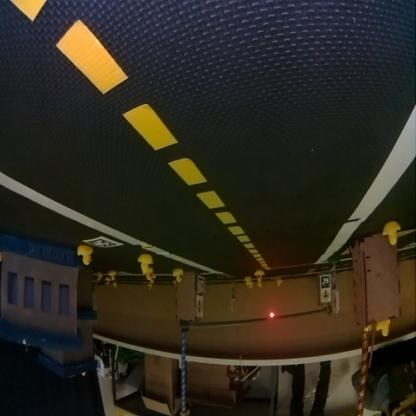Duckie: (382, 223, 400, 247), (76, 246, 92, 266), (376, 319, 390, 338), (137, 254, 151, 272), (173, 270, 182, 282), (143, 269, 152, 281), (255, 272, 264, 282), (96, 274, 102, 282), (109, 273, 115, 280), (245, 278, 250, 286), (258, 280, 262, 288), (276, 281, 280, 286)
Intersection sign: (321, 292, 329, 301)
QR code: (85, 238, 122, 248), (196, 278, 204, 296), (320, 276, 330, 288)
Signal sign: (197, 300, 202, 316)
Traffic light: (268, 312, 274, 322)
